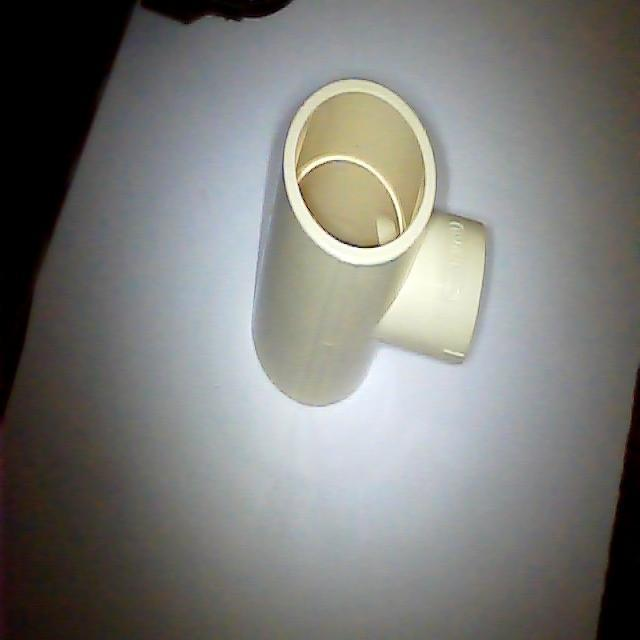T Joint: (250, 77, 487, 411)
